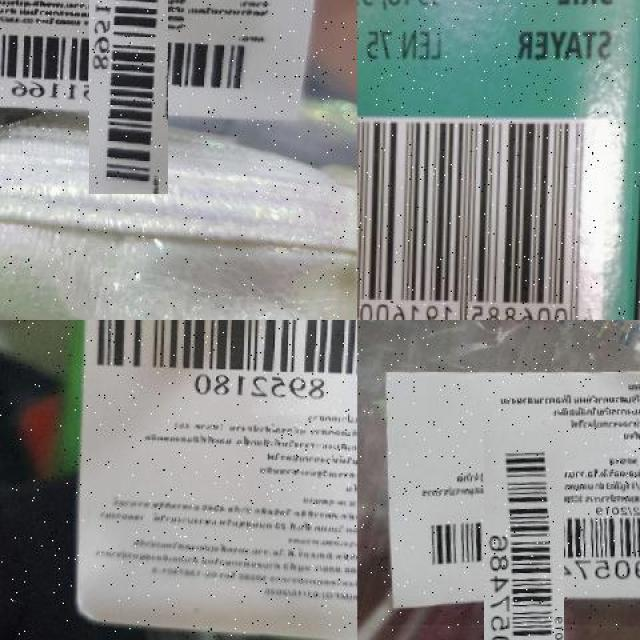Barcode: (357, 113, 604, 320), (44, 0, 212, 151), (80, 320, 357, 408), (446, 468, 602, 624)
